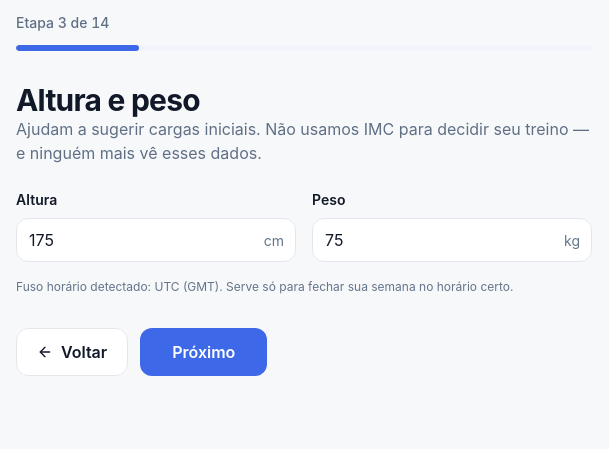
Test: OnboardingWizard › prevents advancing when height or weight is outside physiological range
Replace the text in the number field labelled "Altura" with "-10" at [156, 240], box [16, 218, 296, 262]
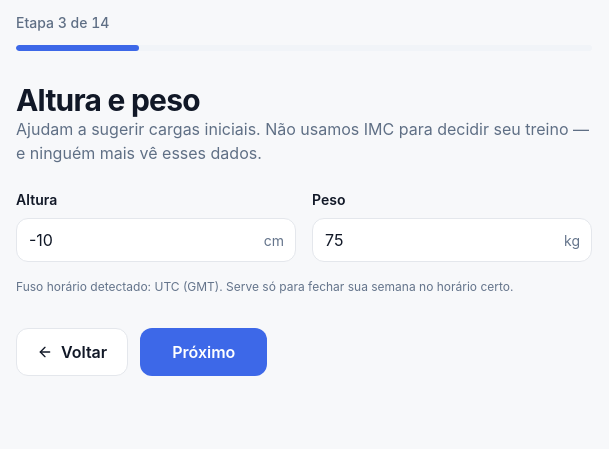
Submit the form "Altura e peso"
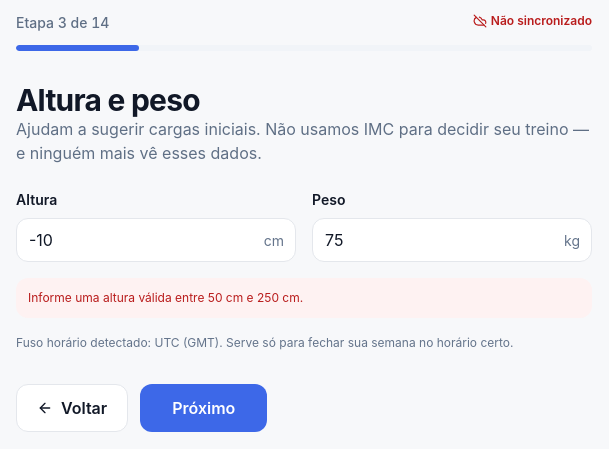
Check: the heading "Altura e peso" is shown, box [16, 82, 200, 118]
Check: the message shows "entre 50 cm e 250 cm", box [28, 290, 303, 305]
